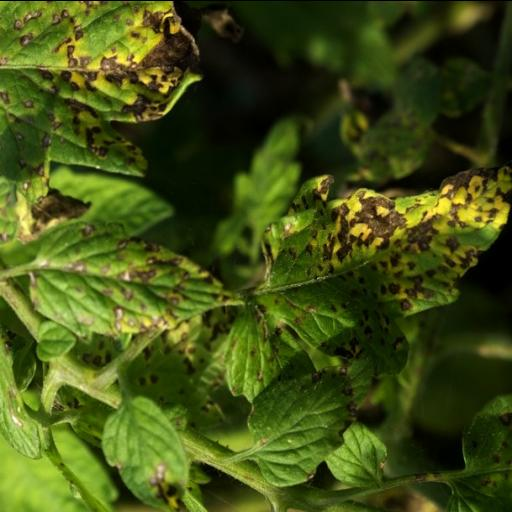disease_tomato: (226, 162, 512, 400), (0, 0, 206, 229), (24, 218, 248, 344), (246, 361, 359, 487), (98, 393, 191, 512)
